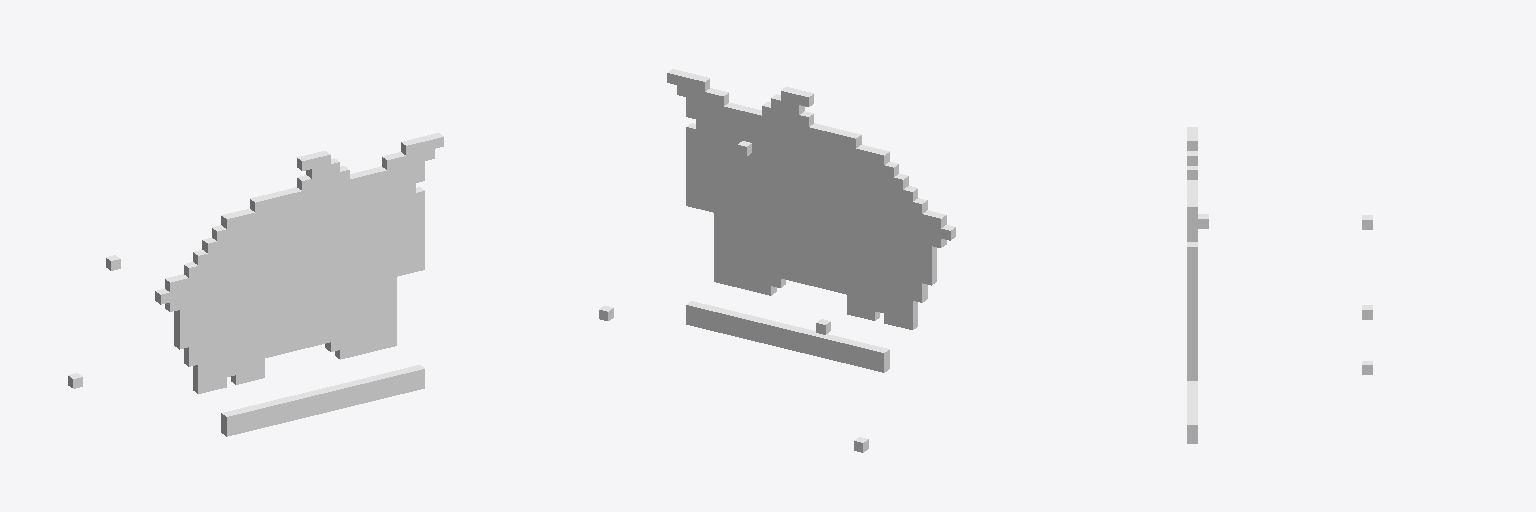
File: pig9.obj
3 views of the same model, side by side, from view 1: azimuth 30°, elevation 25°; view 2: azimuth 150°, elevation 25°; view 3: azimuth 270°, elevation 25° (orthographic).
Parts seen in each view (by area): view 1: object 1; view 2: object 1; view 3: object 1.
Boxes of the visible parts, x1=… form: object 1: x1=68, y1=133, x2=443, y2=436; object 1: x1=599, y1=69, x2=955, y2=452; object 1: x1=1187, y1=127, x2=1372, y2=443.
Size of the model in its own units: 3 by 2.6 by 1.7.